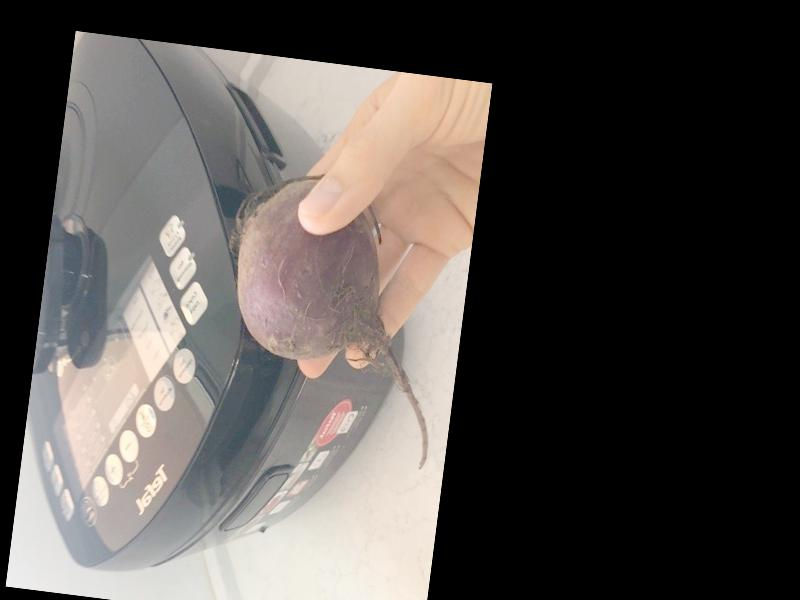Beet: (206, 166, 458, 468)
